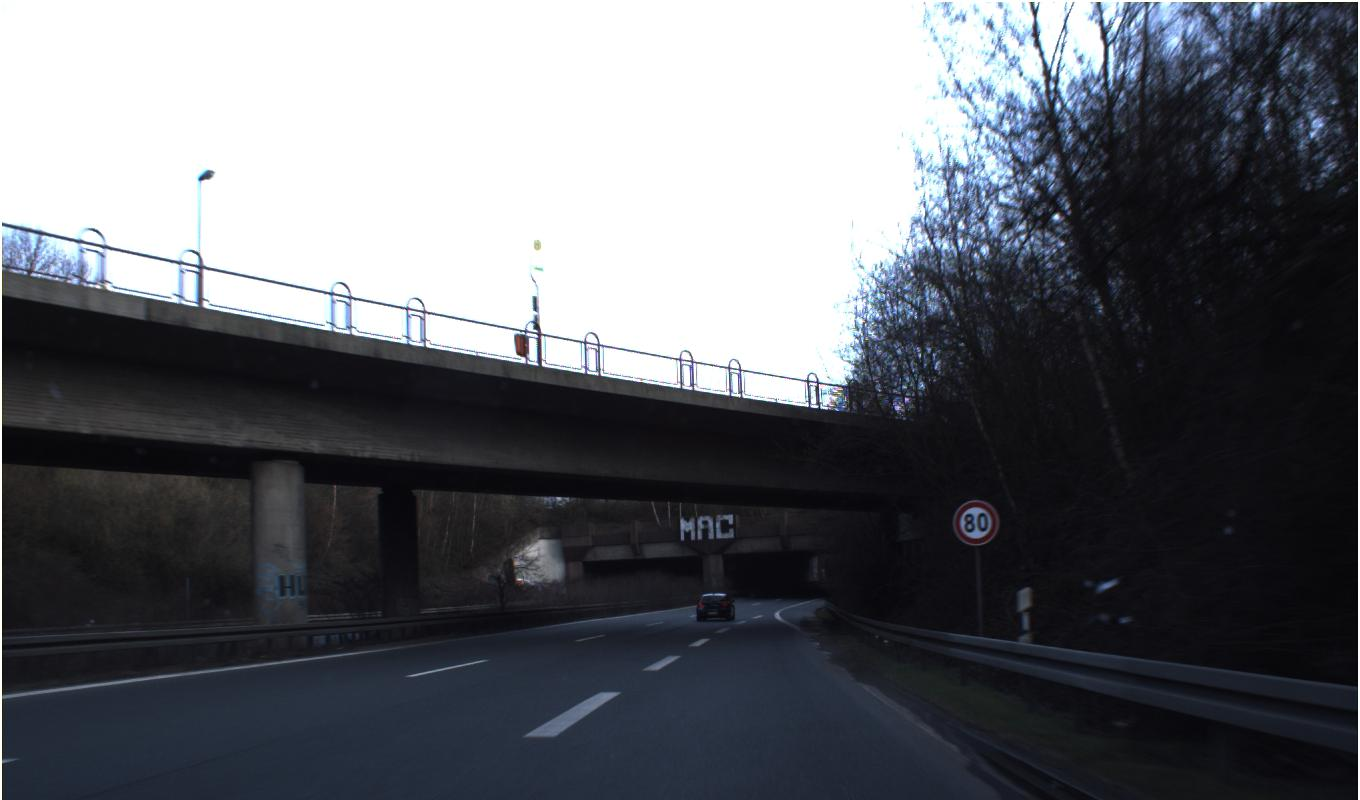prohibitory: (952, 499, 1000, 546)
